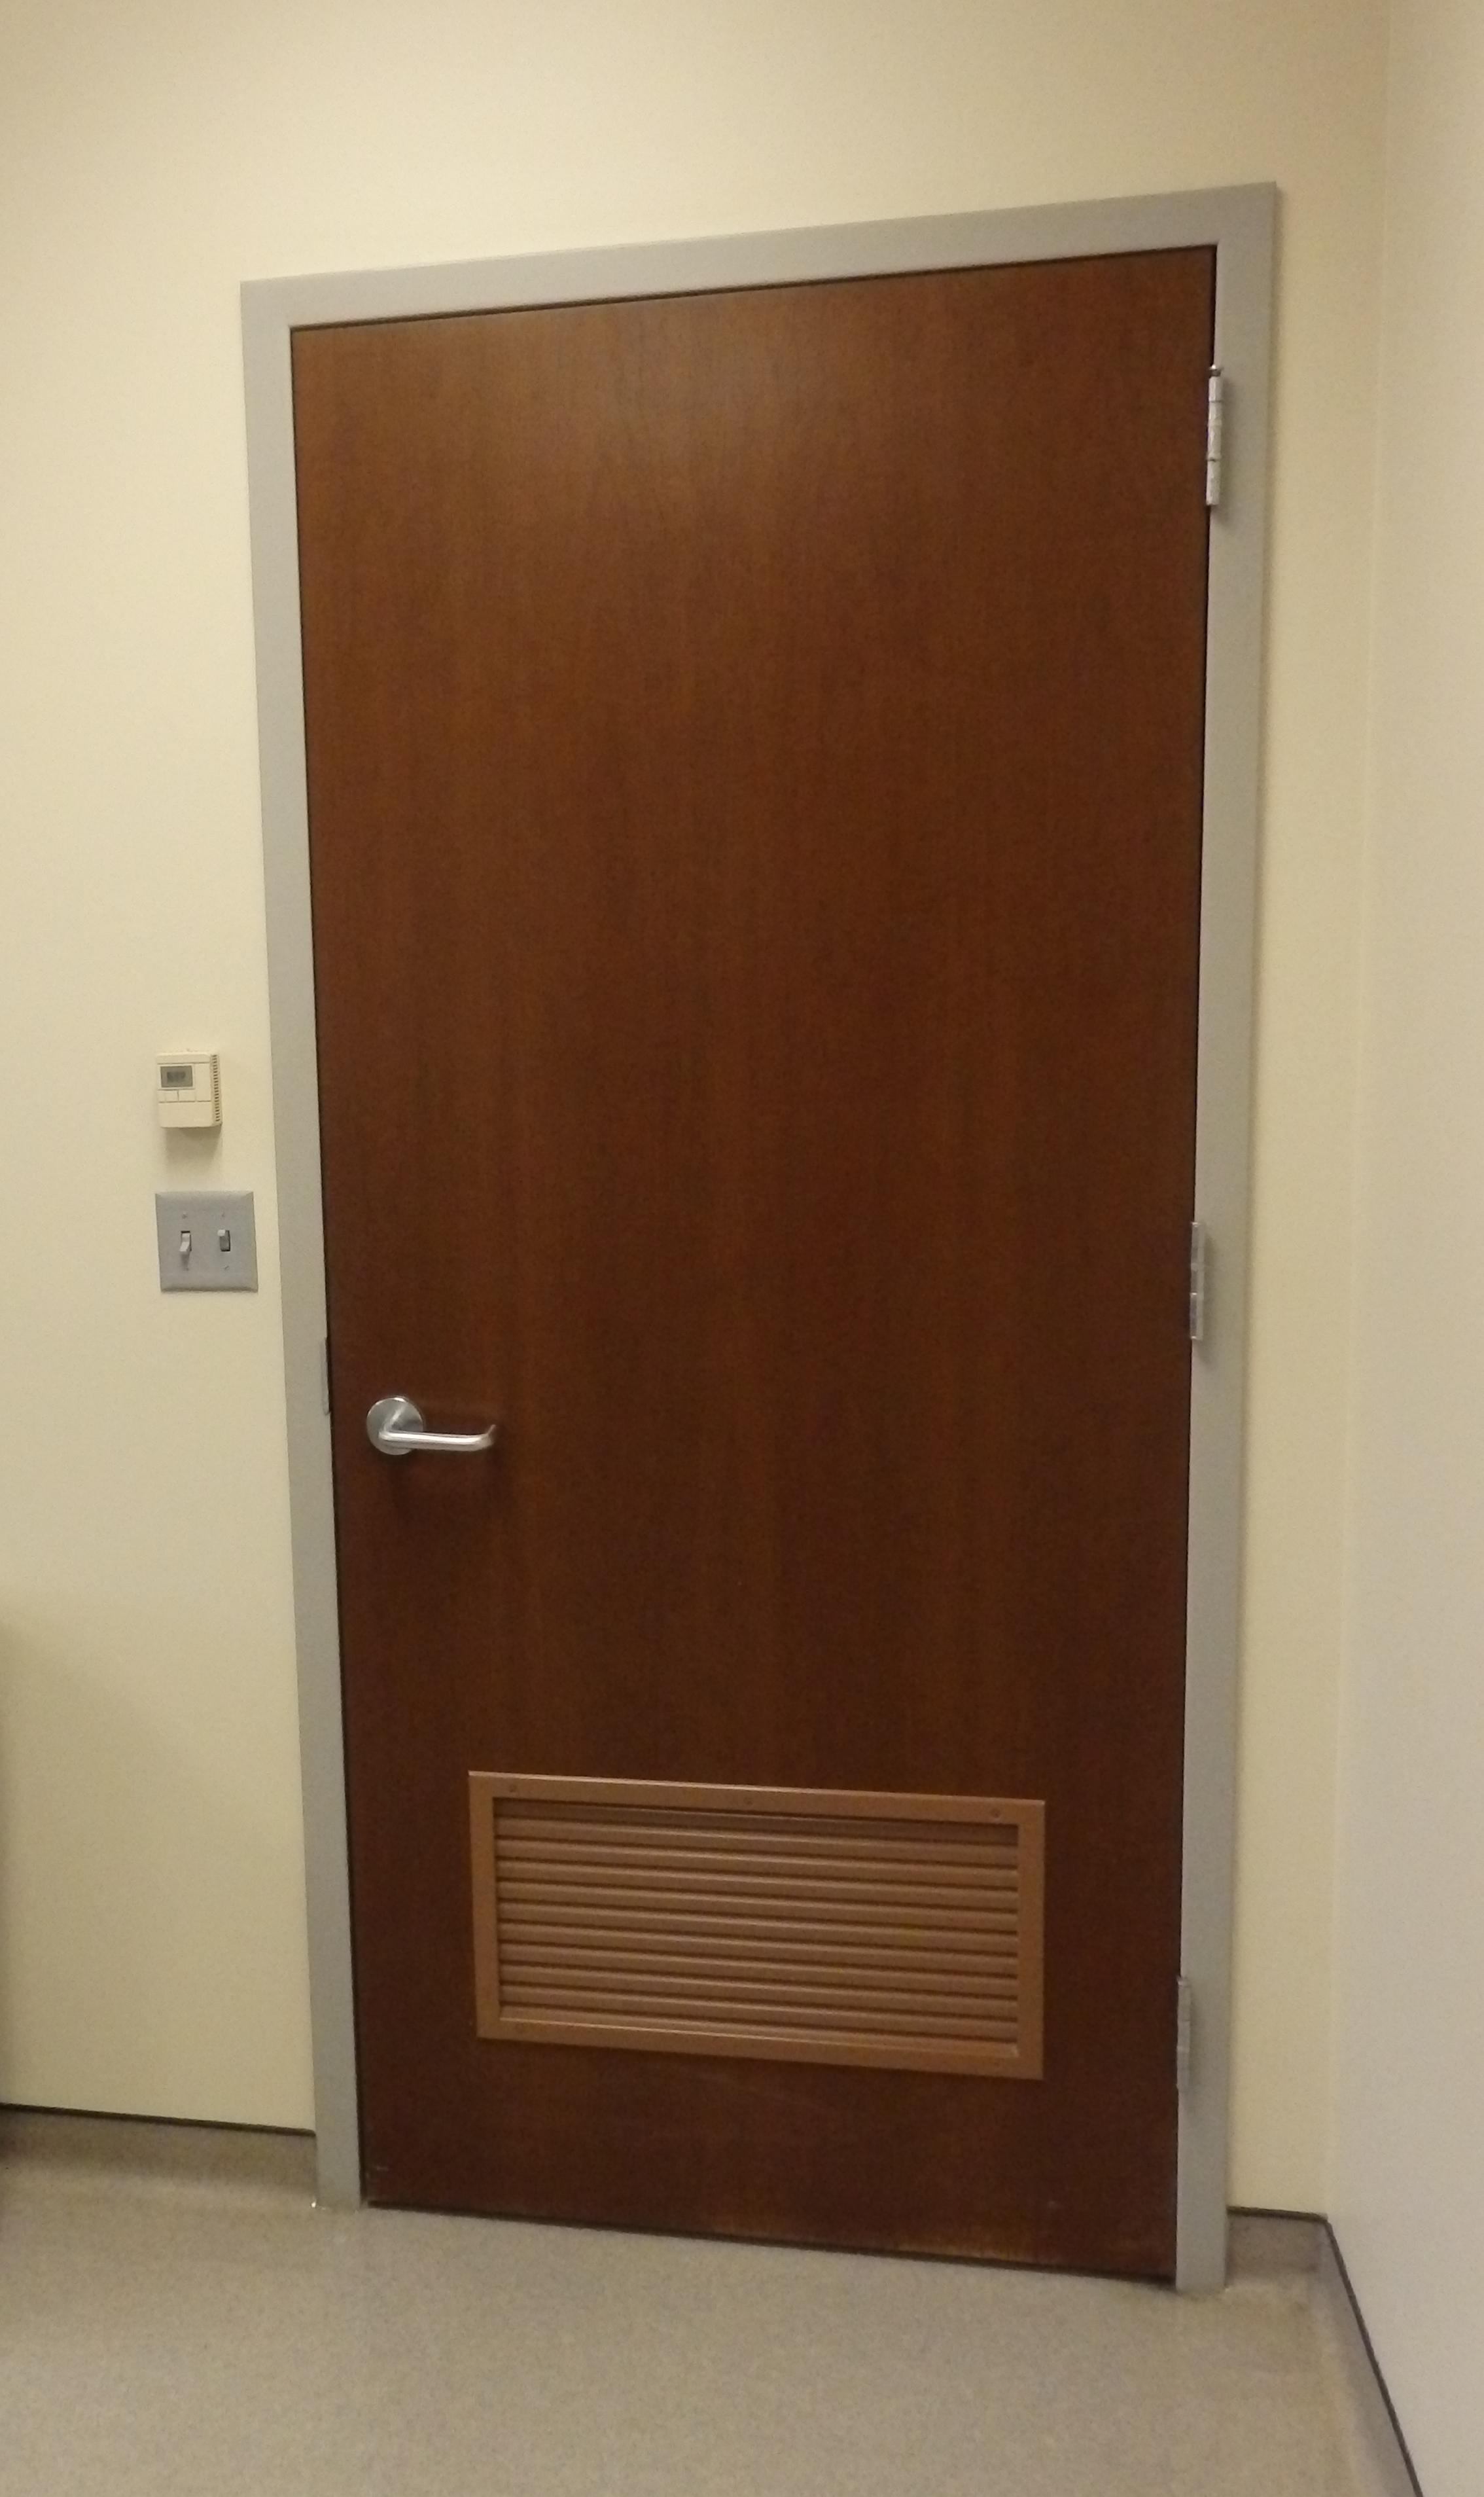door: (295, 237, 1235, 2294)
